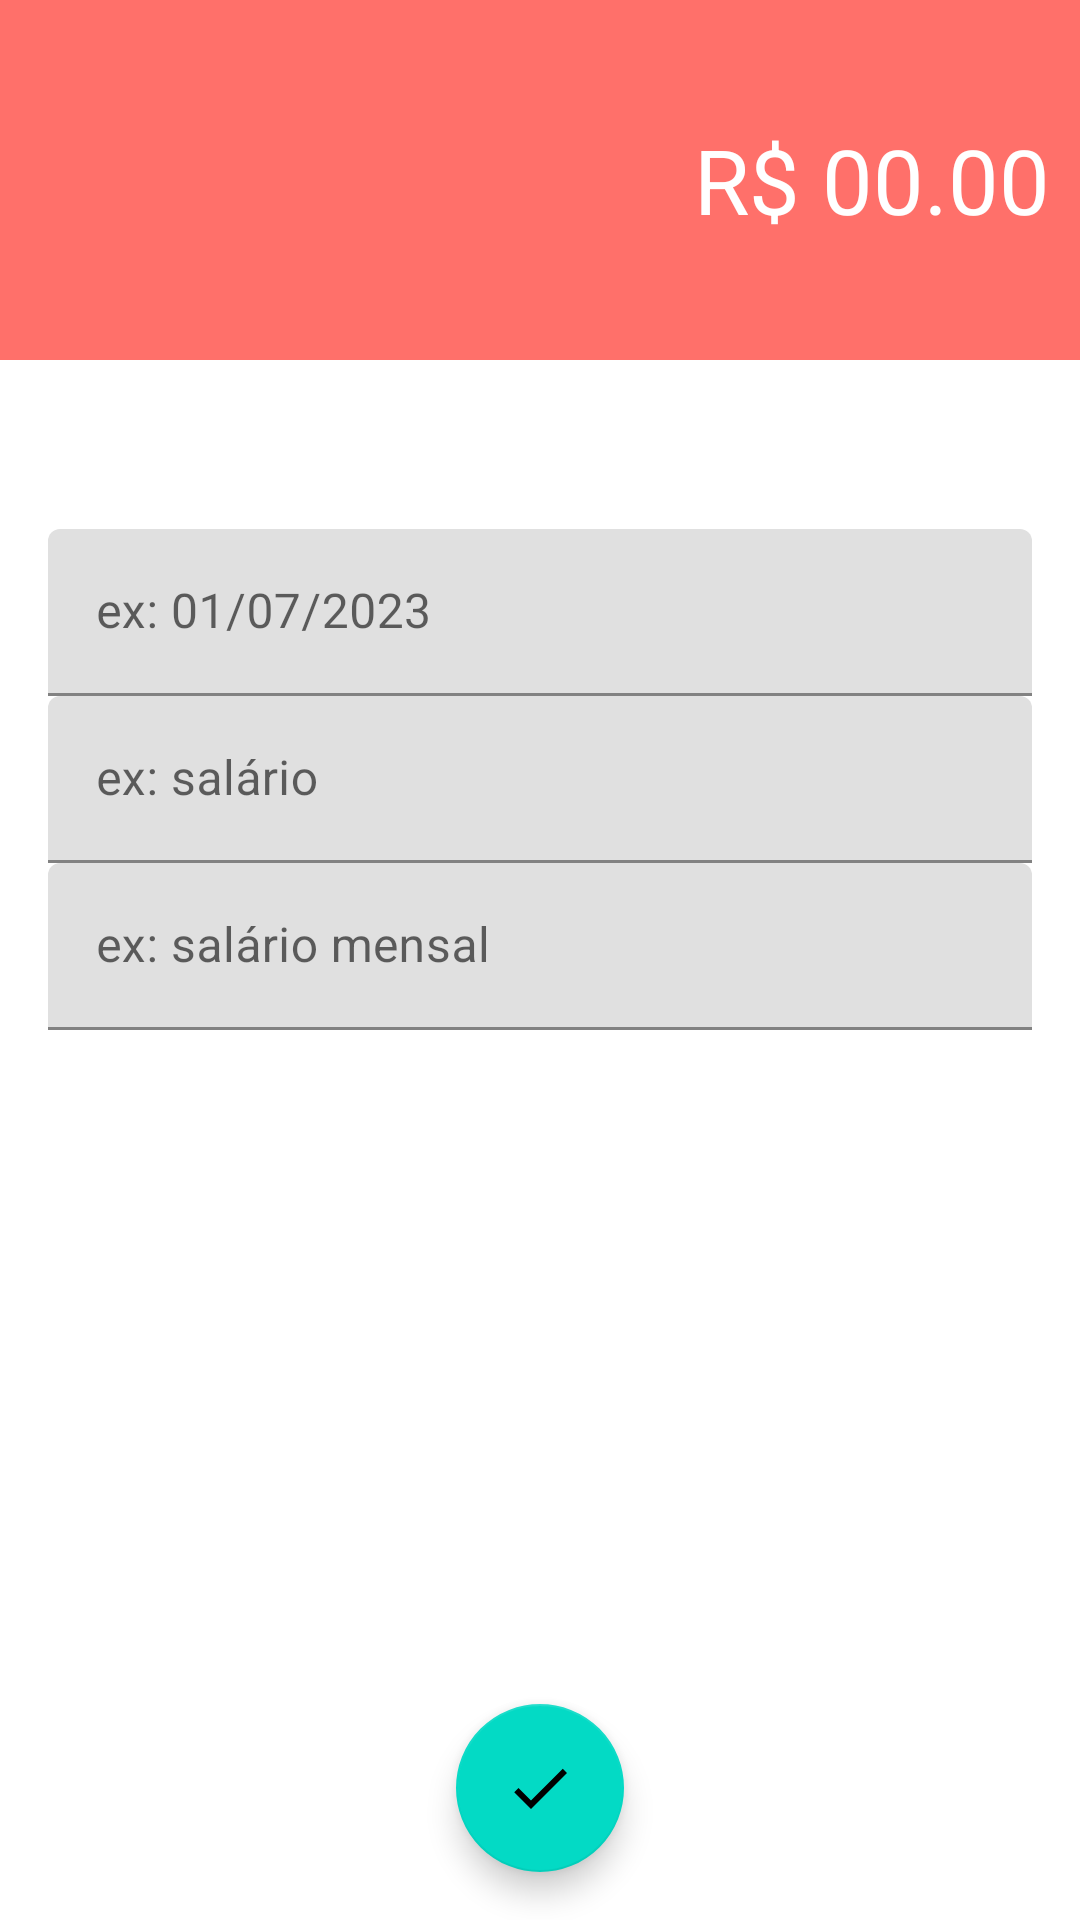

Icon click points for this 1080 x 1920 phone screenshot, format point (x, y):
confirmar branco: point (540, 1788)
